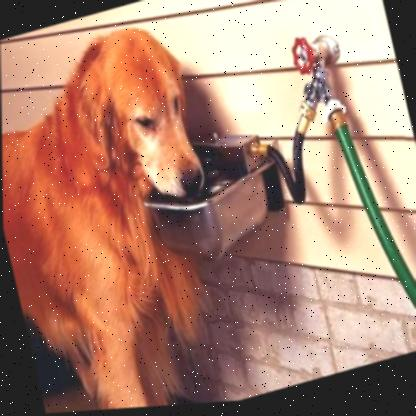dog: (0, 9, 269, 416)
